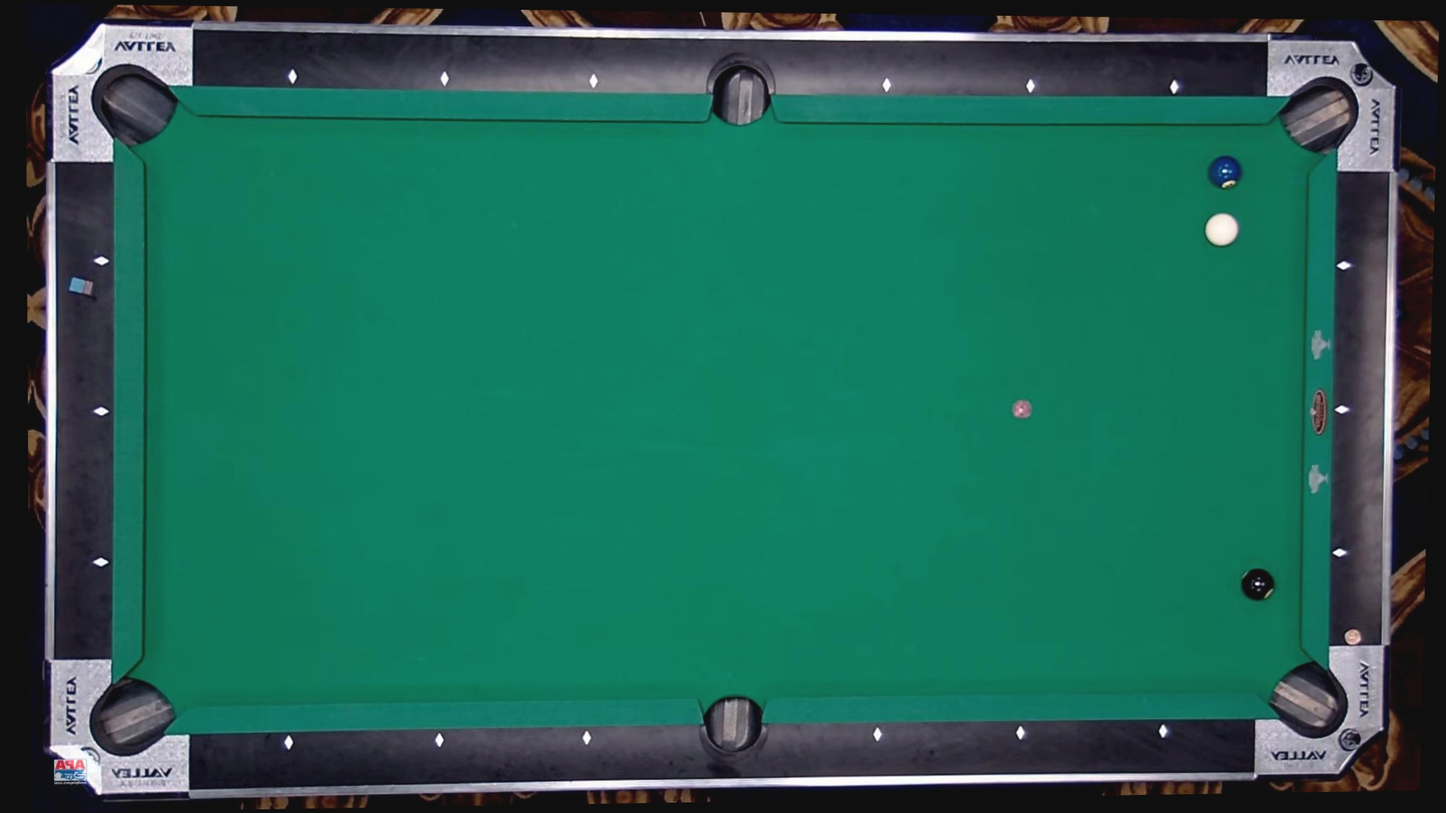Black: (1240, 567, 1276, 601)
Cue: (1205, 212, 1240, 248)
Solid: (1336, 403, 1347, 414), (1338, 261, 1349, 272), (881, 80, 892, 91), (96, 406, 107, 417), (95, 557, 106, 568), (284, 738, 295, 749), (435, 734, 446, 745), (1015, 728, 1026, 739), (1158, 726, 1169, 737), (1335, 548, 1346, 558), (1168, 82, 1179, 92), (1026, 81, 1036, 92), (588, 76, 599, 86), (288, 71, 298, 82), (872, 730, 883, 740), (440, 74, 450, 84), (96, 257, 106, 267), (583, 732, 593, 742)
Striped: (1206, 155, 1243, 190)
